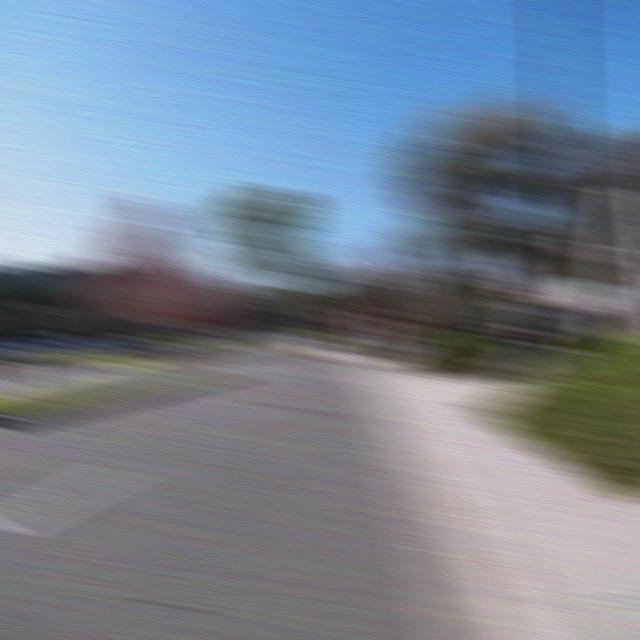stop: (192, 302, 230, 327), (368, 298, 406, 323)
